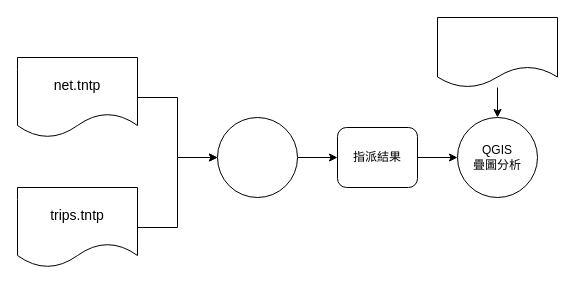
Image size: 575x285. Some labels were removed from this diagram. Each missing label, with the centre of its shape:
"Python 進行交通指派" goes at point (257, 157).
"大台北都會區路網 ( .shp 檔案 )" goes at point (497, 52).
